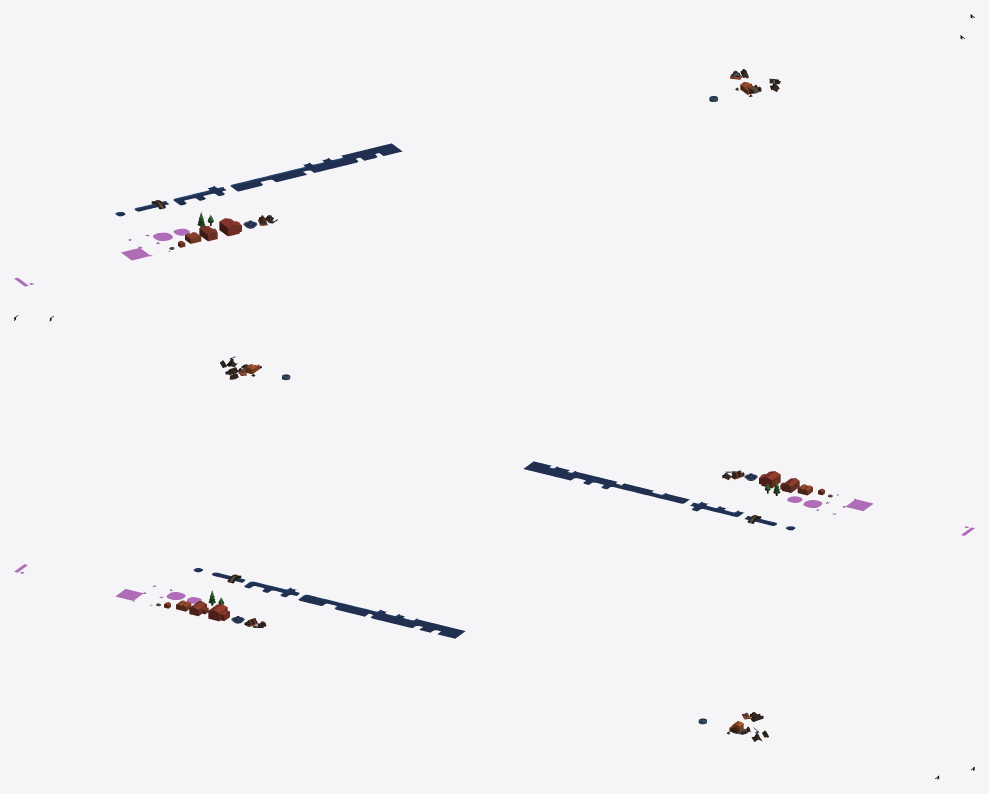
The model's file is models.glb.
3 renders of one model, top to bottom at view 1: azimuth 30°, elevation 25°; view 2: azimuth 150°, elevation 25°; view 3: azimuth 330°, elevation 25°, orthographic. The views are drawn at different scales.
Bounding box in the file's own units: 205 × 3.9 × 20.05.
1 material, 1 textured.
